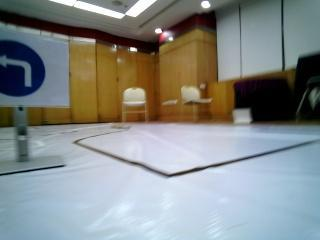left: (5, 25, 71, 108)
